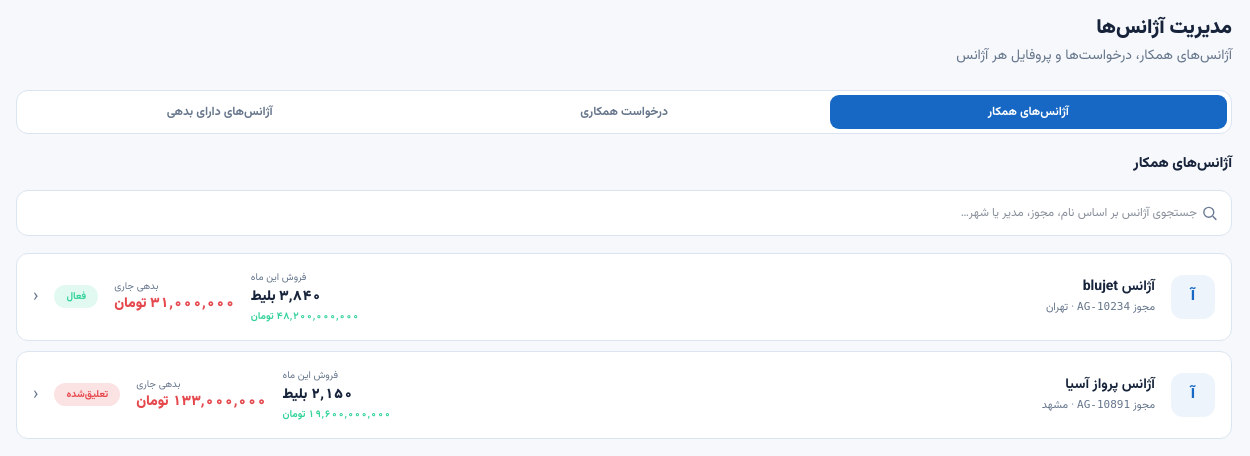
AgenciesListPage › Commercial Manager: debtors tab shows the notify-all + all-invoices entry points
Check: the text "آژانس blujet" is shown, box [1083,276,1155,298]
Click the button "آژانس‌های دارای بدهی": (220, 112) [21,95,418,129]
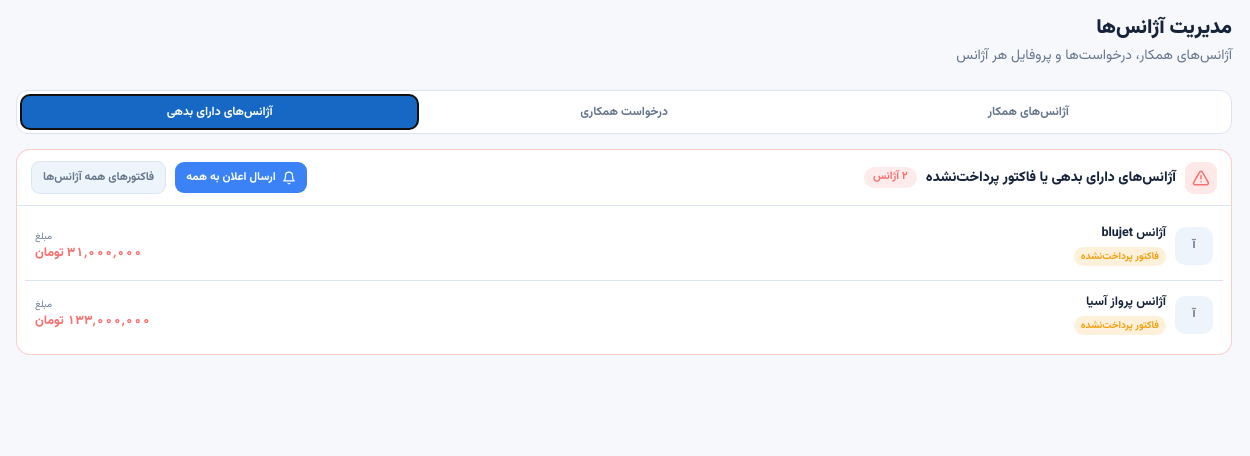
Check: the heading "آژانس‌های دارای بدهی یا فاکتور پرداخت‌نشده" is shown, box [926,168,1176,188]
Check: the button "ارسال اعلان به همه" is shown, box [175,162,307,193]
Check: the button "فاکتورهای همه آژانس‌ها" is shown, box [31,161,166,194]
